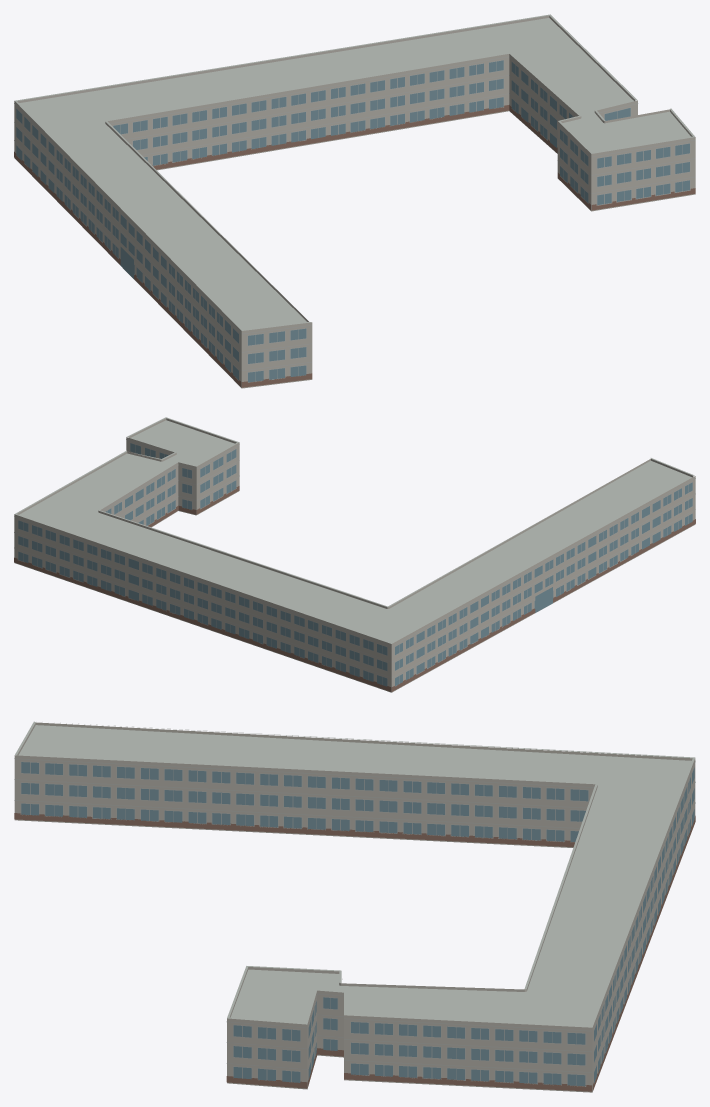
Rendered from public-f66a427e-8f8a-4e46-b4d3-f60142935998.glb.
3 views of the same model, one above another, from view 1: azimuth 30°, elevation 25°; view 2: azimuth 150°, elevation 25°; view 3: azimuth 270°, elevation 25° (orthographic). The views are drawn at different scales.
Visible parts, largest first — view 1: public-f66a427e-8f8a-4e46-b4d3-f60142935998; view 2: public-f66a427e-8f8a-4e46-b4d3-f60142935998; view 3: public-f66a427e-8f8a-4e46-b4d3-f60142935998.
Boxes of the visible parts, bbox=[...] form: public-f66a427e-8f8a-4e46-b4d3-f60142935998: bbox=[14, 14, 695, 388]; public-f66a427e-8f8a-4e46-b4d3-f60142935998: bbox=[14, 417, 695, 692]; public-f66a427e-8f8a-4e46-b4d3-f60142935998: bbox=[14, 721, 695, 1092].
Size of the model in its own units: 92.71 by 9.15 by 87.1.
